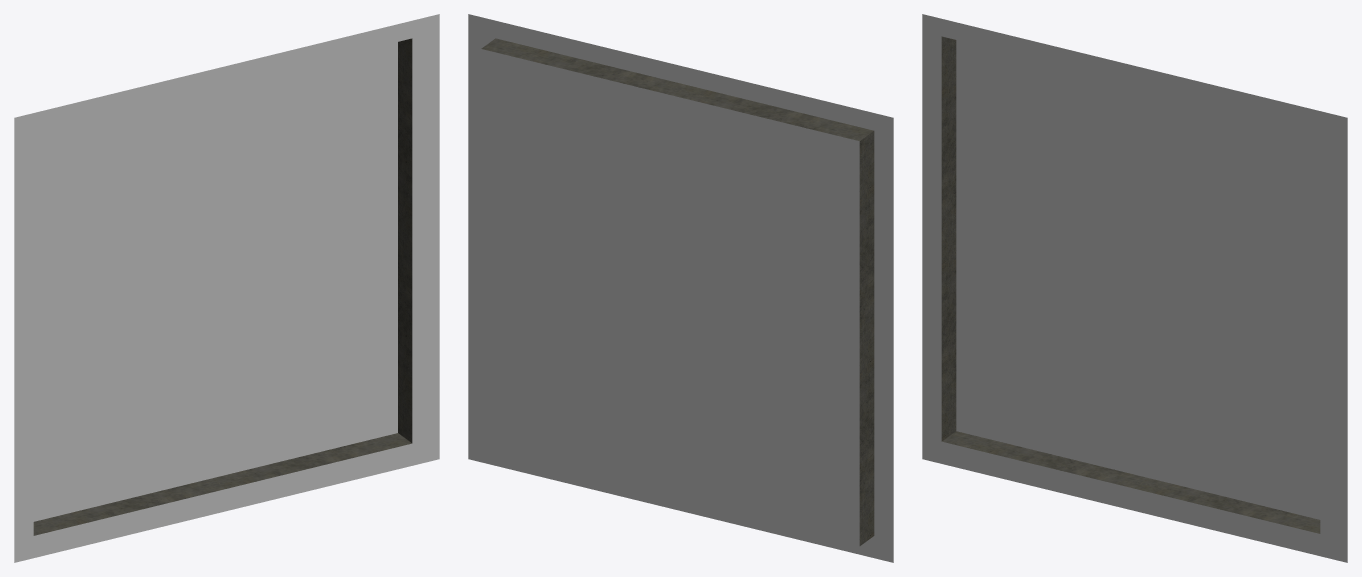
Rendered from CT_door_06.fbx.
3 views of the same model, side by side, from view 1: azimuth 30°, elevation 25°; view 2: azimuth 150°, elevation 25°; view 3: azimuth 330°, elevation 25° (orthographic).
Parts seen in each view (by area): view 1: CT_door_06; view 2: CT_door_06; view 3: CT_door_06.
Boxes of the visible parts, x1,y1,x2,y2 form: CT_door_06: (14, 14, 439, 562); CT_door_06: (468, 14, 893, 562); CT_door_06: (922, 14, 1347, 562).
Size of the model in its own units: 256 by 256 by 15.
